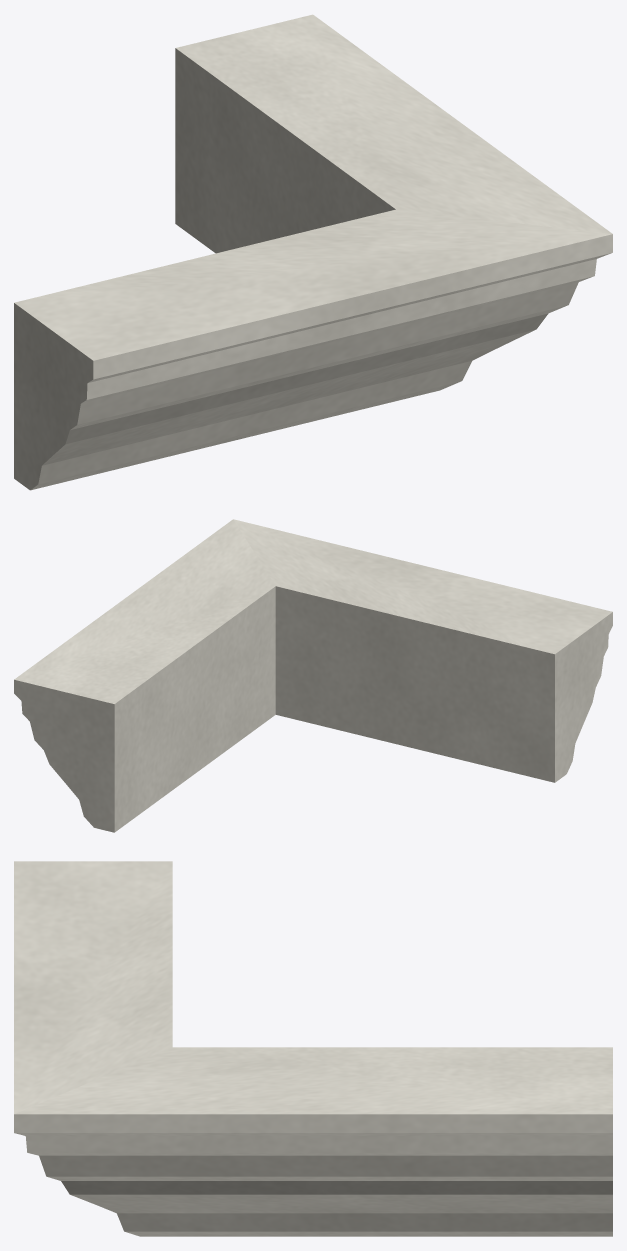
File: PZ_InteriorTrim_V10_Crown_InsideCorner.glb
3 renders of one model, top to bottom at view 1: azimuth 30°, elevation 25°; view 2: azimuth 150°, elevation 25°; view 3: azimuth 270°, elevation 25°, orthographic. The views are drawn at different scales.
Parts seen in each view (by area): view 1: V10_Crown_InsideCorner__Crown_Miter90_ContinuousShell; view 2: V10_Crown_InsideCorner__Crown_Miter90_ContinuousShell; view 3: V10_Crown_InsideCorner__Crown_Miter90_ContinuousShell.
Part boxes in pixels (left/top/right/bottom): V10_Crown_InsideCorner__Crown_Miter90_ContinuousShell: left=14, top=14, right=612, bottom=490; V10_Crown_InsideCorner__Crown_Miter90_ContinuousShell: left=14, top=519, right=612, bottom=832; V10_Crown_InsideCorner__Crown_Miter90_ContinuousShell: left=14, top=861, right=612, bottom=1236.
Size of the model in its own units: 0.408 by 0.132 by 0.408.
1 material, 1 textured.
